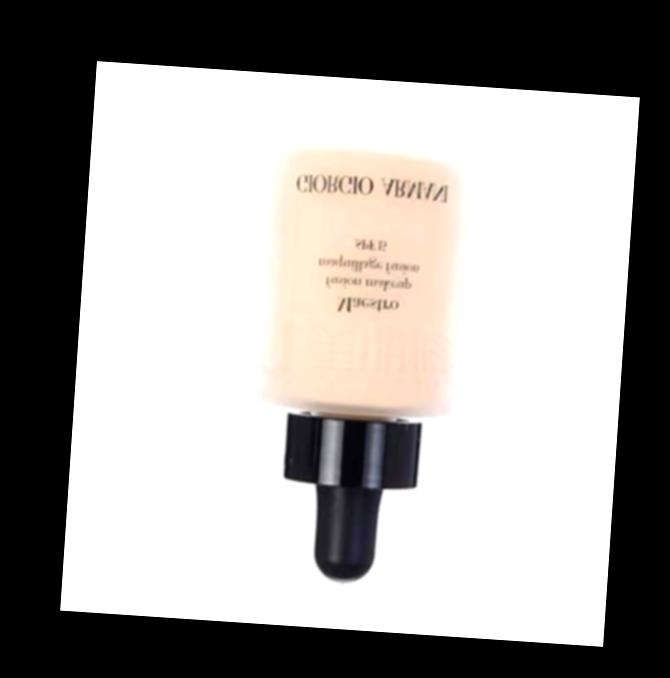cosmetic: (236, 120, 475, 590)
